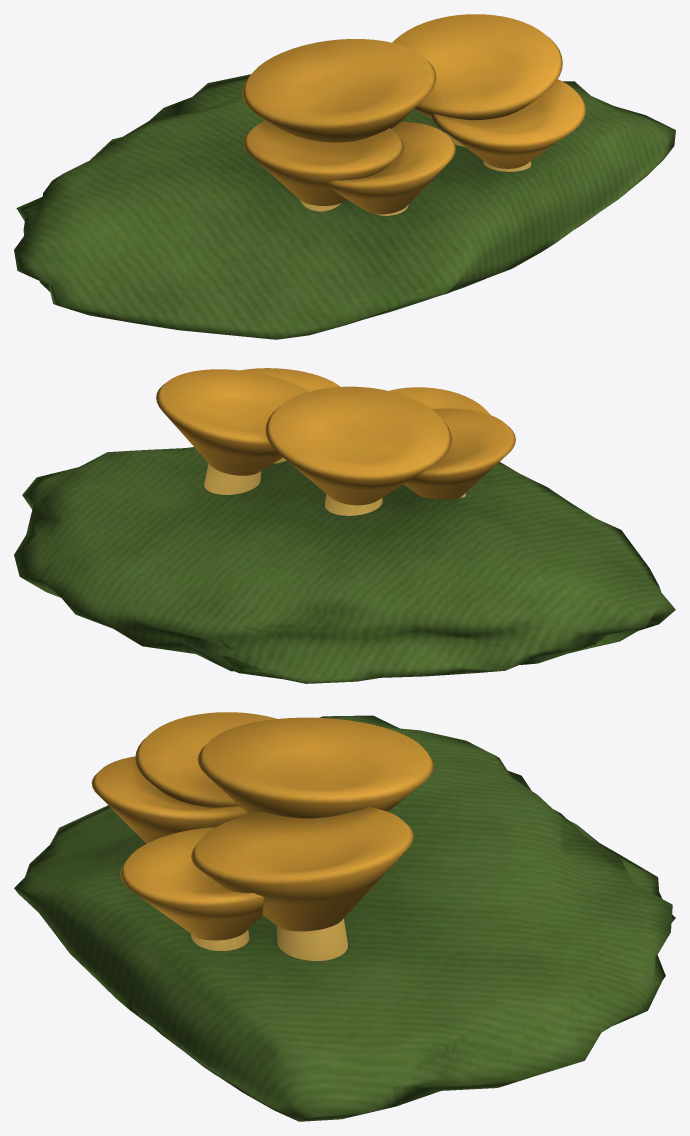
File: chanterelle.glb
3 renders of one model, top to bottom at view 1: azimuth 30°, elevation 25°; view 2: azimuth 150°, elevation 25°; view 3: azimuth 270°, elevation 25°, orthographic. The views are drawn at different scales.
Parts seen in each view (by area): view 1: moss, cap, stem; view 2: moss, cap, stem; view 3: moss, cap, stem.
Boxes of the visible parts, x1,y1,x2,y2 form: moss: (14,74,675,339); cap: (242,14,585,214); stem: (299,132,531,215); moss: (14,447,675,683); cap: (156,368,515,505); stem: (204,457,465,515); moss: (14,715,675,1121); cap: (91,712,433,940); stem: (191,918,347,960).
Bounding box in the file's own units: 0.3836 × 0.0867 × 0.2798.
3 materials, 3 textured.
